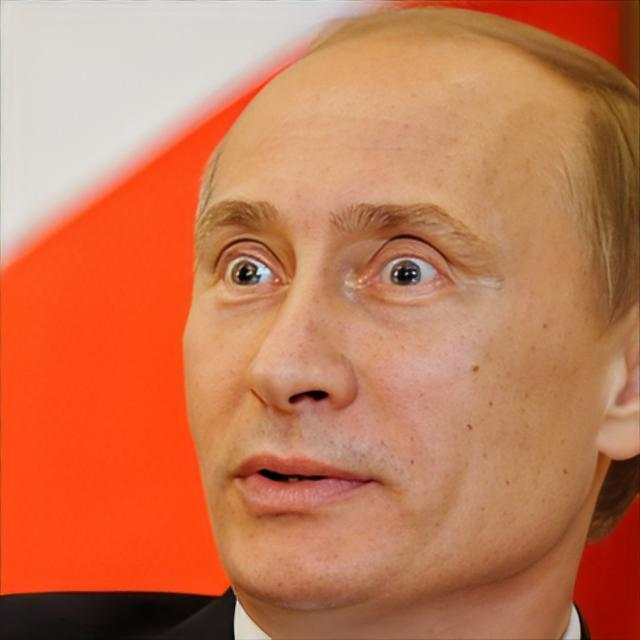Fear: (181, 22, 599, 610)
